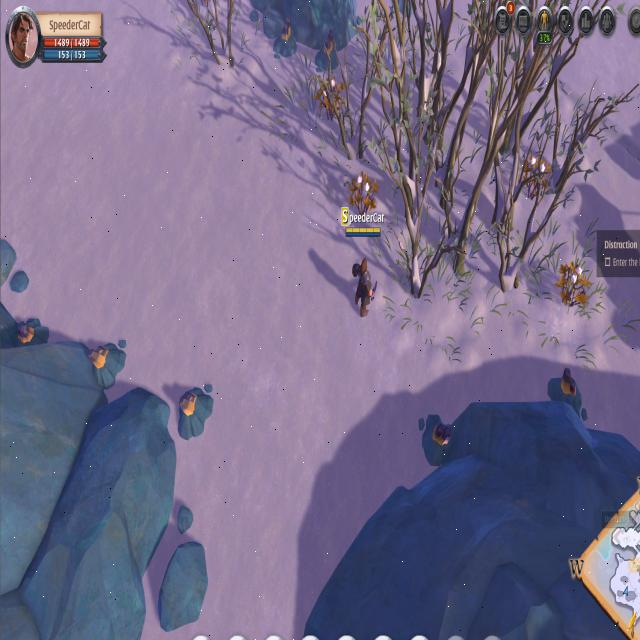copper: (85, 333, 128, 393), (175, 381, 215, 441), (421, 406, 455, 468), (547, 364, 582, 412), (271, 13, 299, 62), (15, 315, 50, 353), (314, 24, 339, 74)
cotton: (554, 260, 591, 316), (347, 172, 379, 222), (313, 75, 346, 123), (522, 151, 553, 202)
